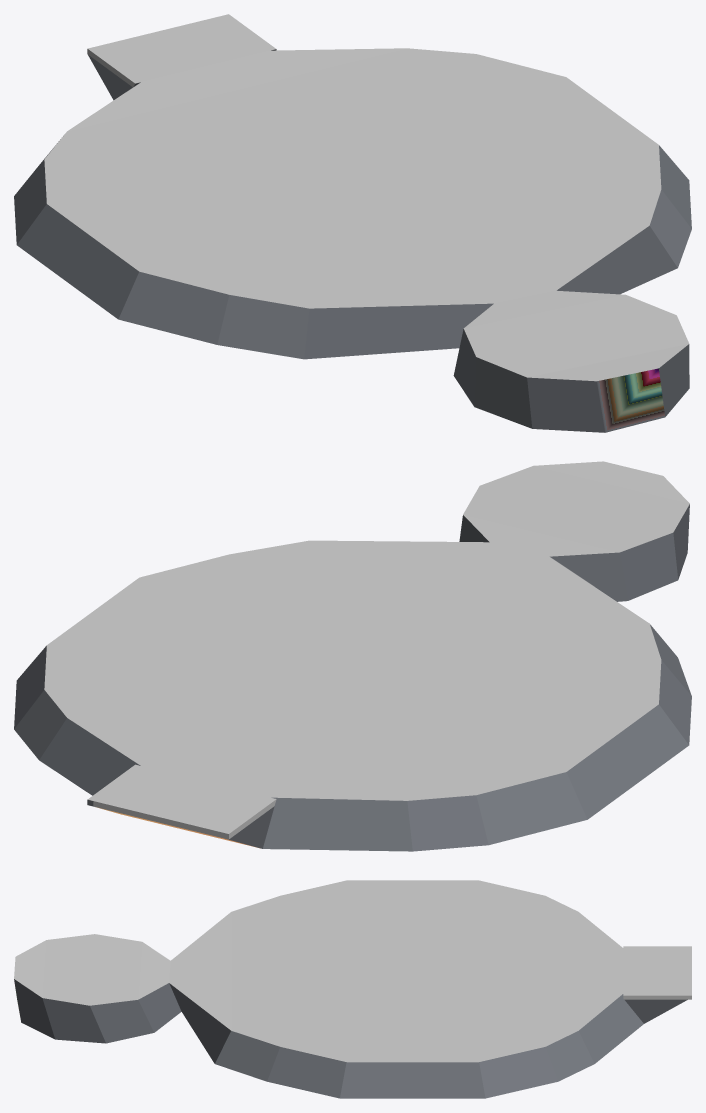
The model's file is levelend1 (1).fbx.
3 renders of one model, top to bottom at view 1: azimuth 30°, elevation 25°; view 2: azimuth 150°, elevation 25°; view 3: azimuth 270°, elevation 25°, orthographic. The views are drawn at different scales.
Visible parts, largest first — view 1: road.001; view 2: road.001; view 3: road.001.
Part boxes in pixels (x1=…): road.001: x1=14, y1=14, x2=691, y2=432; road.001: x1=14, y1=461, x2=691, y2=851; road.001: x1=14, y1=880, x2=691, y2=1098.
Size of the model in its own units: 25.93 by 2.47 by 37.21.
